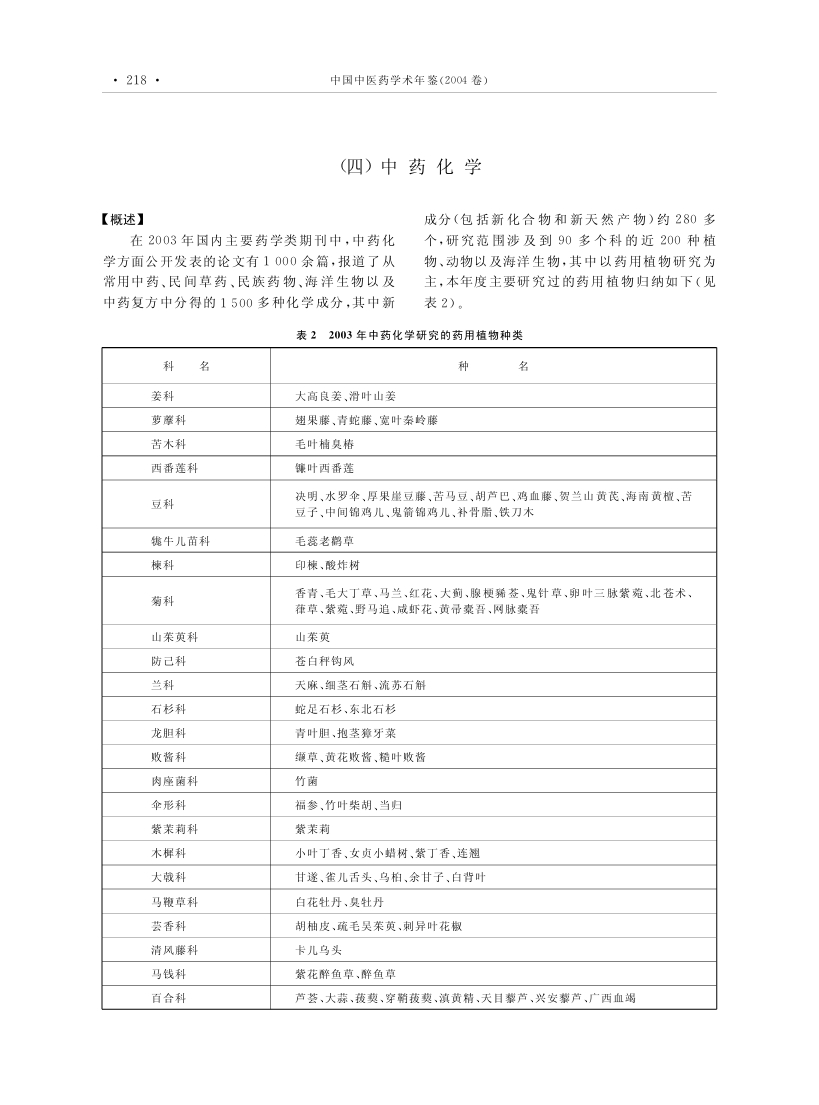table: (101, 347, 717, 1010)
